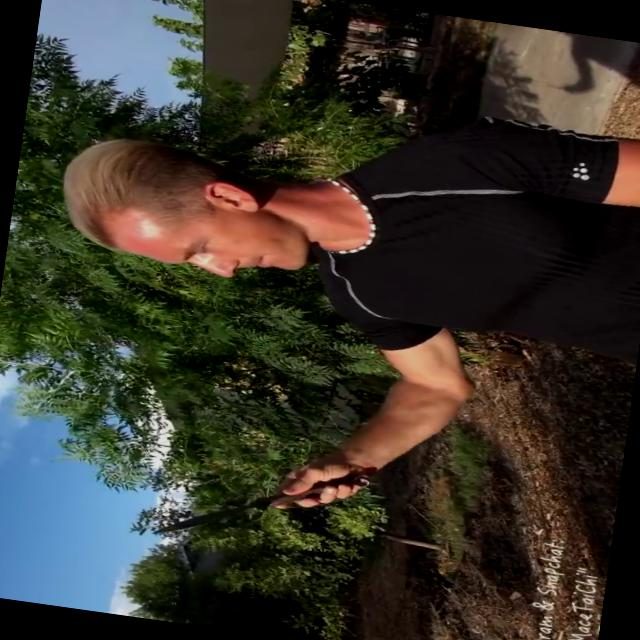knife: (150, 448, 370, 562)
